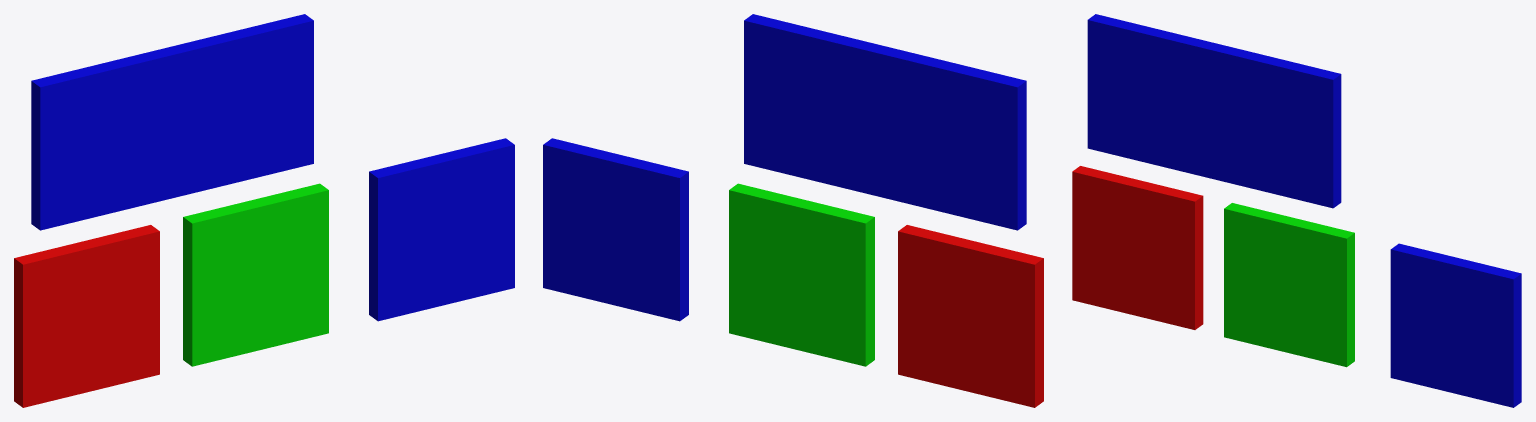
The model's file is floor,roof,wall.fbx.
The picture shows the model from 3 angles, left to right: view 1: azimuth 30°, elevation 25°; view 2: azimuth 150°, elevation 25°; view 3: azimuth 330°, elevation 25°; orthographic projection. The views are drawn at different scales.
Visible parts, largest first — view 1: wall, wall2, floor, roof; view 2: wall, wall2, floor, roof; view 3: wall, wall2, roof, floor.
Part boxes in pixels (left/top/right/bottom): wall: left=31, top=14, right=313, bottom=230; wall2: left=369, top=138, right=514, bottom=321; floor: left=183, top=183, right=328, bottom=366; roof: left=14, top=225, right=159, bottom=407; wall: left=744, top=14, right=1026, bottom=230; wall2: left=543, top=138, right=688, bottom=321; floor: left=729, top=183, right=874, bottom=366; roof: left=898, top=225, right=1043, bottom=407; wall: left=1087, top=14, right=1341, bottom=208; wall2: left=1390, top=243, right=1521, bottom=407; roof: left=1072, top=166, right=1203, bottom=329; floor: left=1224, top=203, right=1354, bottom=367.
Bounding box in the file's own units: 3.59 × 2.21 × 0.1141.
